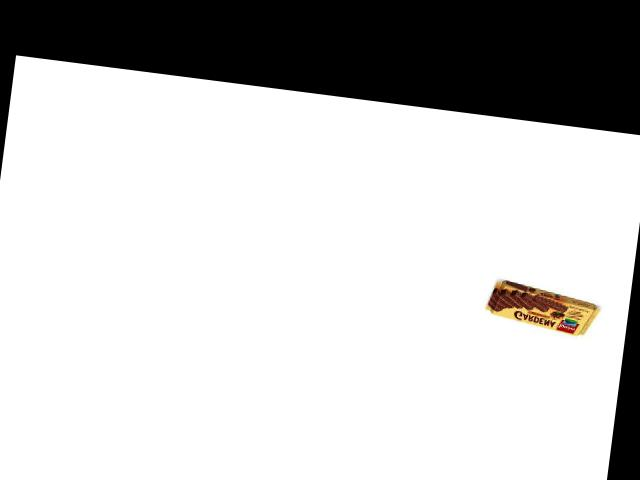chocolate: (478, 282, 605, 340)
